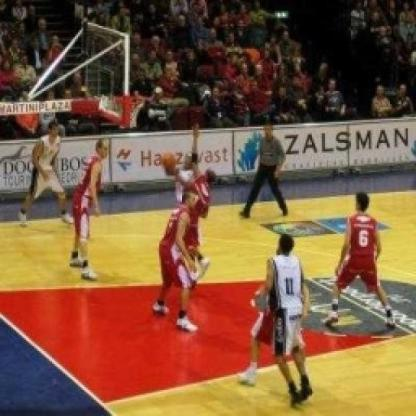basketball: (159, 148, 178, 170)
